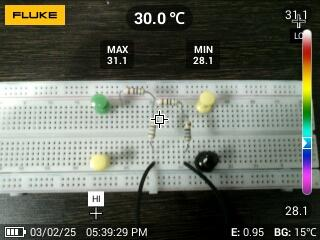resistor: (146, 118, 159, 143), (181, 117, 193, 144), (153, 98, 182, 108), (121, 86, 147, 97)
